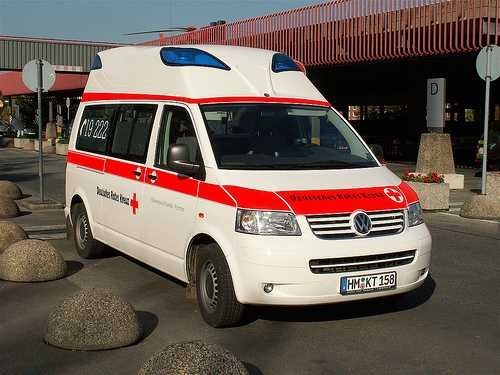Ambulance: (58, 32, 448, 330)
